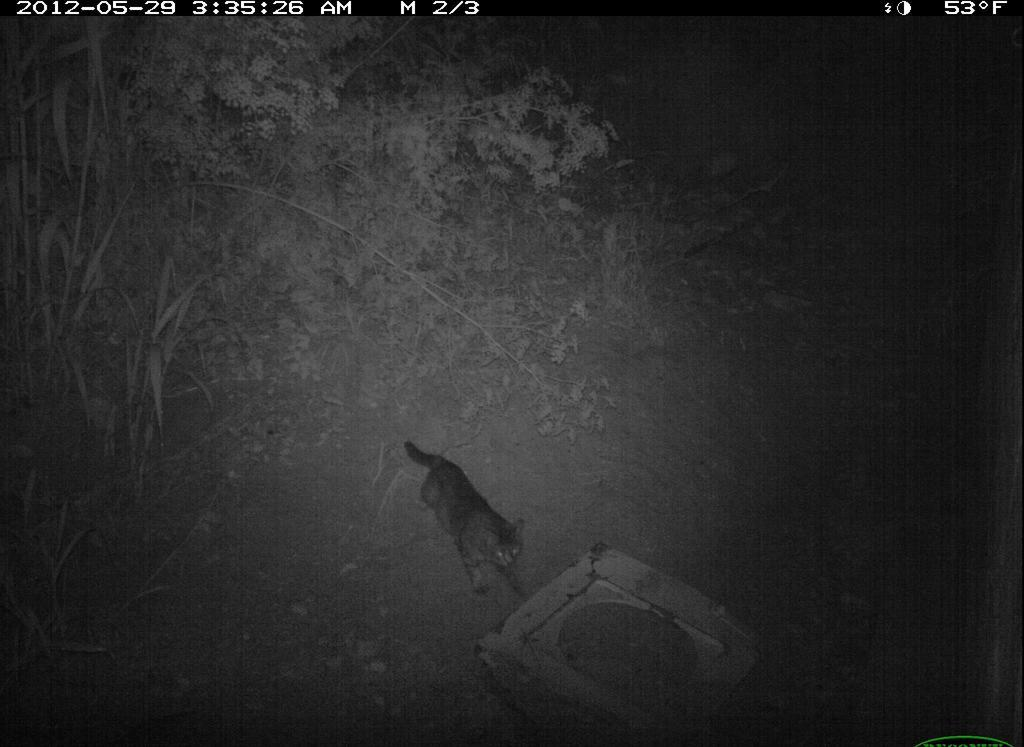cat: (388, 433, 537, 602)
